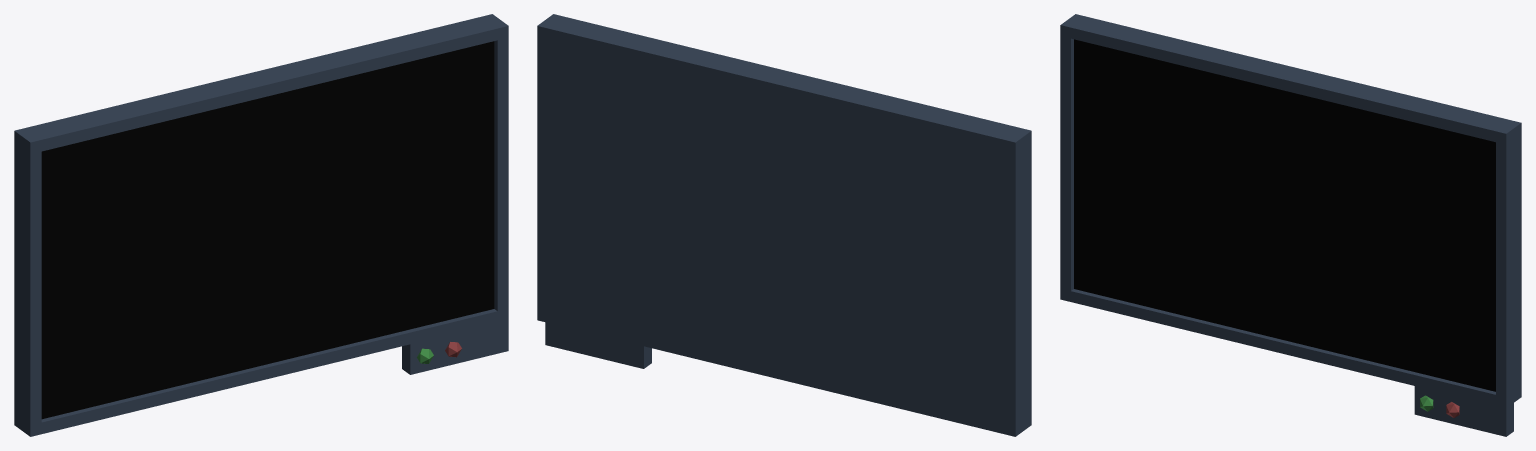
3 renders of one model, left to right at view 1: azimuth 30°, elevation 25°; view 2: azimuth 150°, elevation 25°; view 3: azimuth 330°, elevation 25°, orthographic. The views are drawn at different scales.
Visible parts, largest first — view 1: Cube; view 2: Cube; view 3: Cube.
Boxes of the visible parts, x1,y1,x2,y2 form: Cube: [14, 14, 508, 436]; Cube: [537, 14, 1031, 436]; Cube: [1060, 14, 1521, 436].
Size of the model in its own units: 3.4 by 2.21 by 0.26.
1 material, 1 textured.
